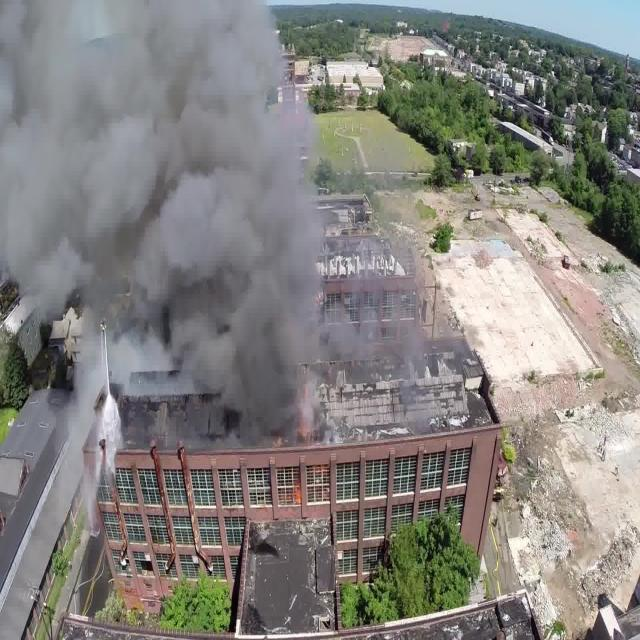Smoke: (0, 0, 308, 446)
